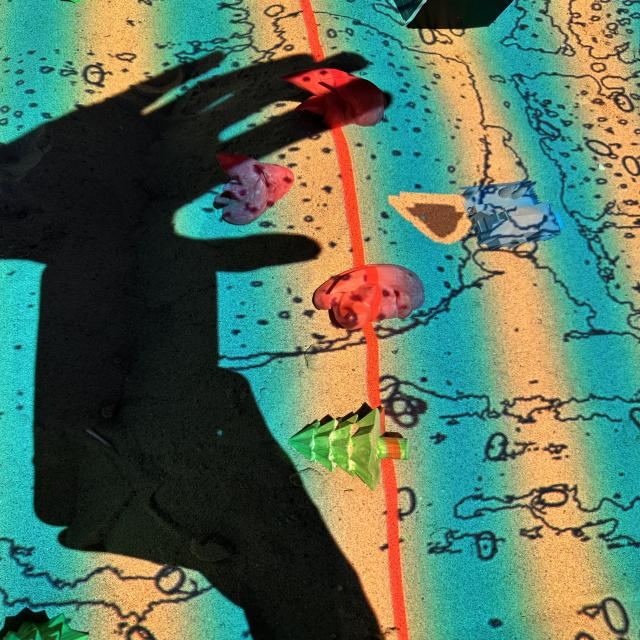fire: (314, 262, 426, 329), (282, 68, 386, 128), (214, 152, 294, 225)
house: (459, 180, 562, 248)
tree: (288, 406, 408, 489), (2, 608, 90, 640)
